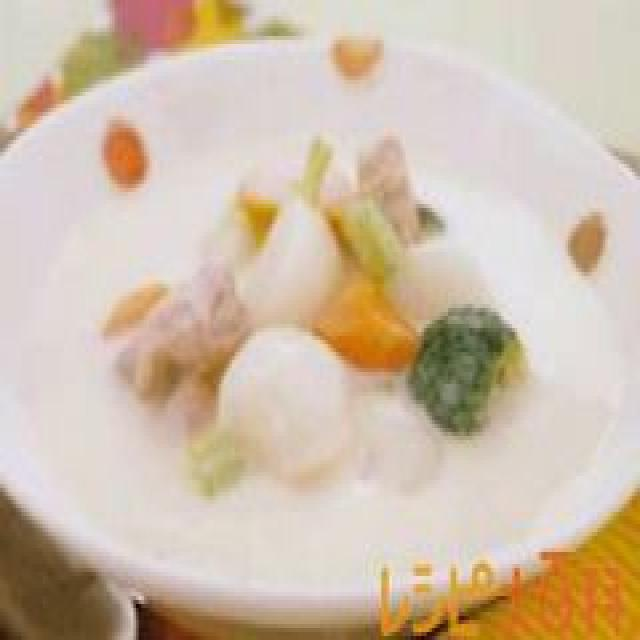汤锅炖物: (0, 100, 640, 640)
